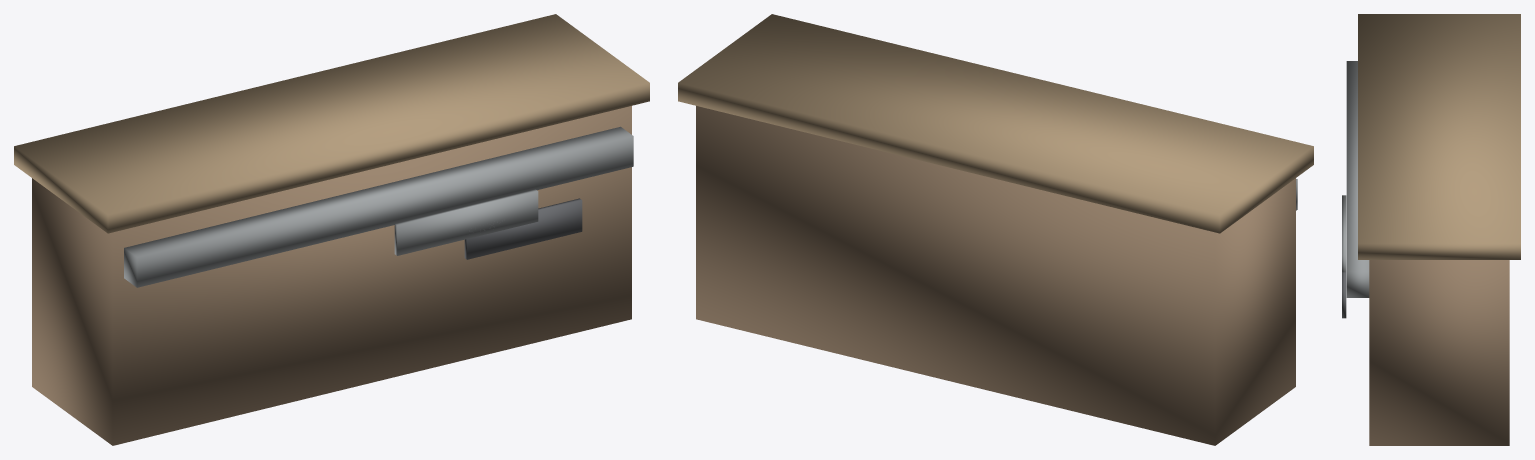
File: bar_counter__weathered.glb
3 renders of one model, left to right at view 1: azimuth 30°, elevation 25°; view 2: azimuth 150°, elevation 25°; view 3: azimuth 270°, elevation 25°, orthographic. The views are drawn at different scales.
Parts seen in each view (by area): view 1: world; view 2: world; view 3: world.
Part boxes in pixels (box(x1,y1,x2,y2)): world: box(14, 14, 649, 445); world: box(678, 14, 1313, 445); world: box(1342, 14, 1520, 445).
Size of the model in its own units: 2.4 by 1.01 by 0.7904.
